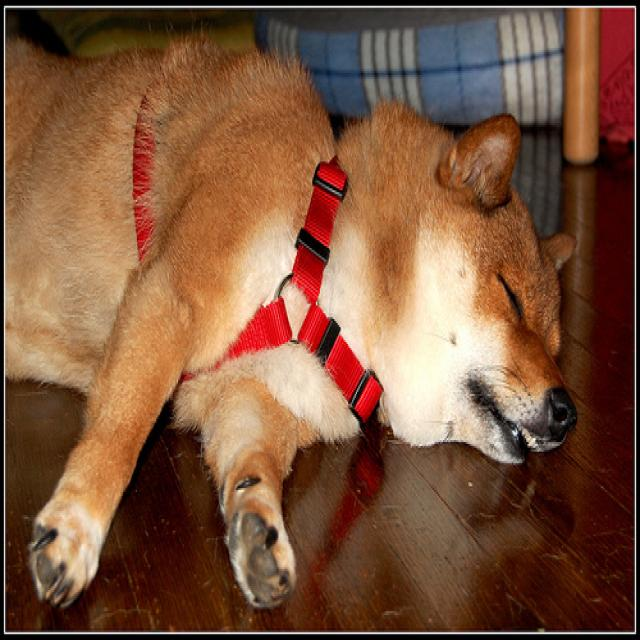dog-shiba_inu: (1, 27, 584, 619)
